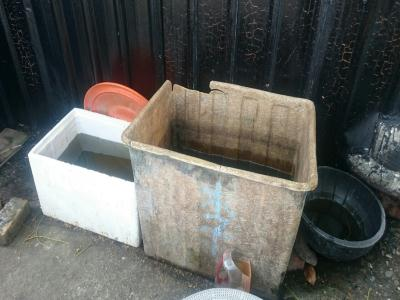bowl: (298, 165, 388, 264)
box: (120, 77, 318, 294)
styrofoam: (26, 105, 144, 249)
